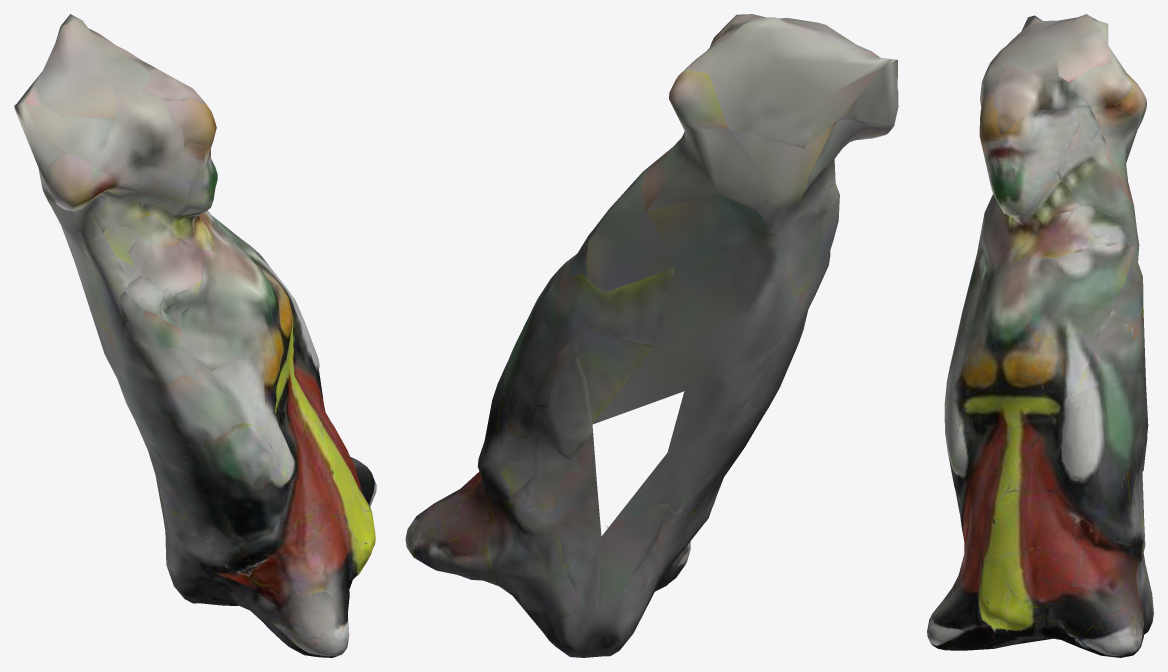
Rendered from hall.glb.
3 views of the same model, side by side, from view 1: azimuth 30°, elevation 25°; view 2: azimuth 150°, elevation 25°; view 3: azimuth 270°, elevation 25° (orthographic). The views are drawn at different scales.
Bounding box in the file's own units: 0.7966 × 1.16 × 0.4284.
Materials: 1 (1 with a texture image).
